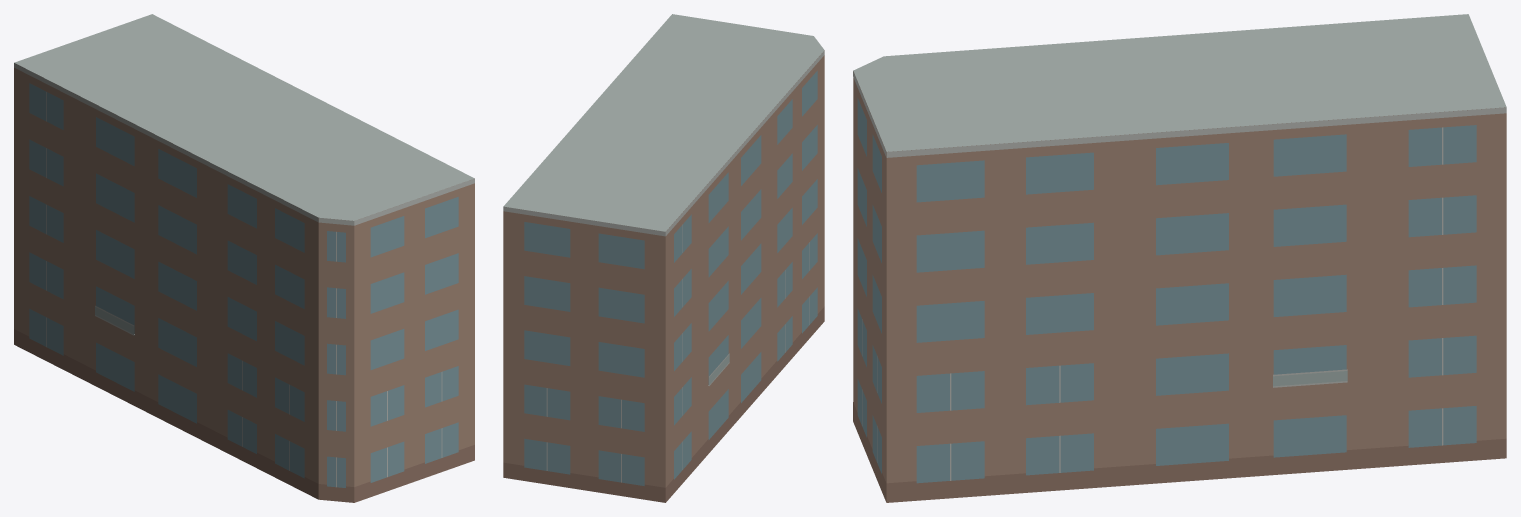
Rendered from survey-upis-32999911.glb.
3 renders of one model, left to right at view 1: azimuth 30°, elevation 25°; view 2: azimuth 150°, elevation 25°; view 3: azimuth 270°, elevation 25°, orthographic. The views are drawn at different scales.
Visible parts, largest first — view 1: survey-upis-32999911.tmp; view 2: survey-upis-32999911.tmp; view 3: survey-upis-32999911.tmp.
Part boxes in pixels (x1,y1,x2,y2): survey-upis-32999911.tmp: (14,14,474,502); survey-upis-32999911.tmp: (503,14,824,502); survey-upis-32999911.tmp: (853,14,1506,502).
Bounding box in the file's own units: 11.97 × 14.2 × 23.97.
